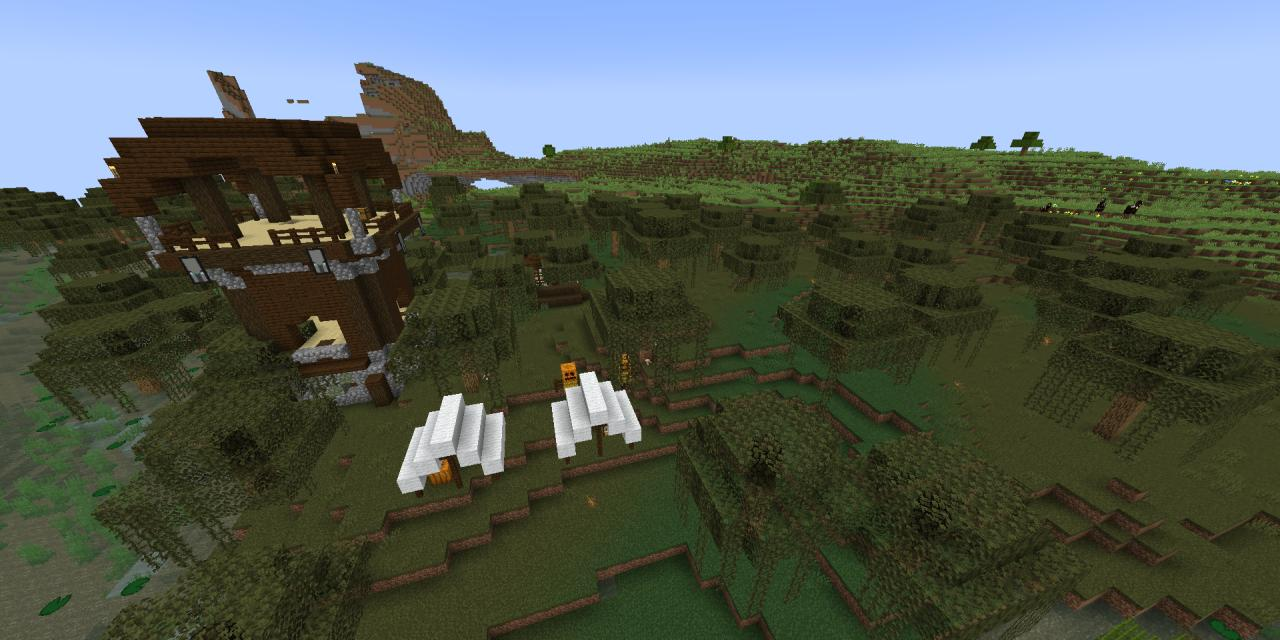pillager outpost: (84, 92, 446, 419)
